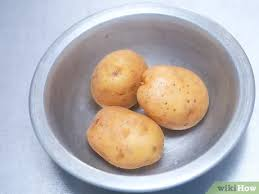potato: (139, 67, 214, 126), (91, 105, 162, 165), (93, 52, 141, 103)
